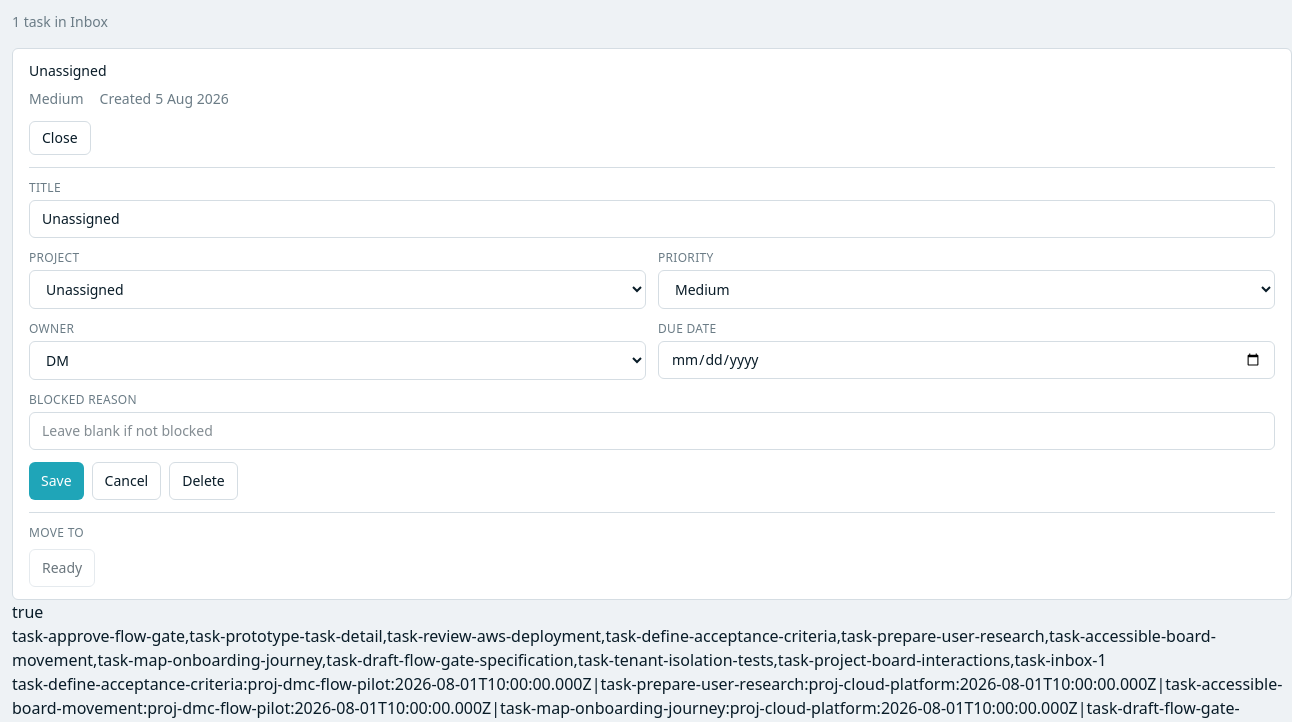
InboxView › disables Ready until a project is selected
The width and height of the screenshot is (1292, 722).
Expected: the text with test id "hydrated" reads "true", [12,601,43,623]
Expected: the button with aria-label "Move Unassigned to Ready" is disabled, [29,549,95,587]
Select "DMC Flow Pilot" in the dropdown labelled "Project" at [338, 290], box [29,270,646,309]
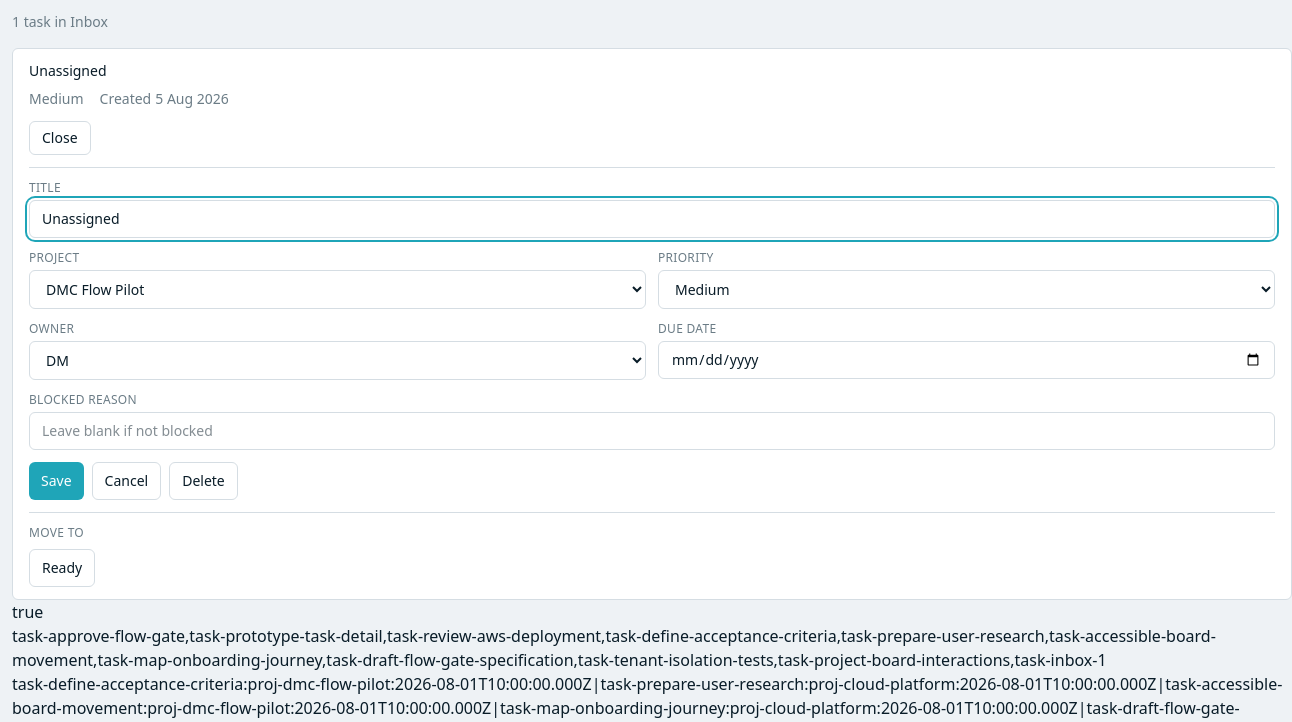
Now the button with aria-label "Move Unassigned to Ready" is enabled, box [29,549,95,587]
